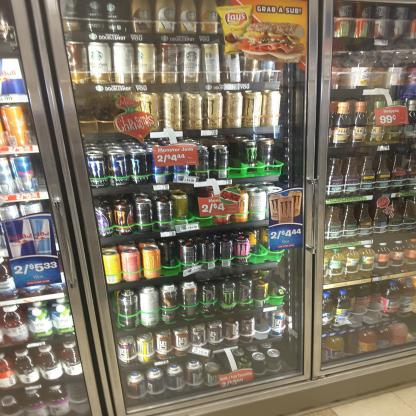Void: (78, 92, 126, 137), (226, 144, 245, 177), (283, 340, 300, 376)
